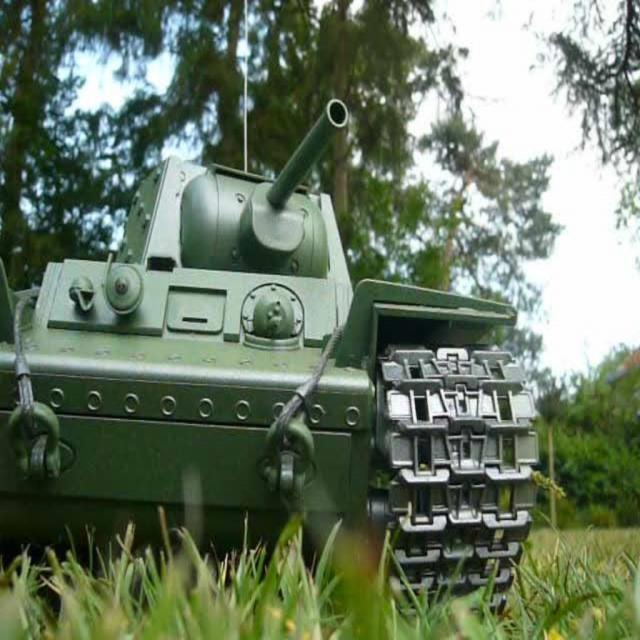tank: (0, 0, 540, 618)
